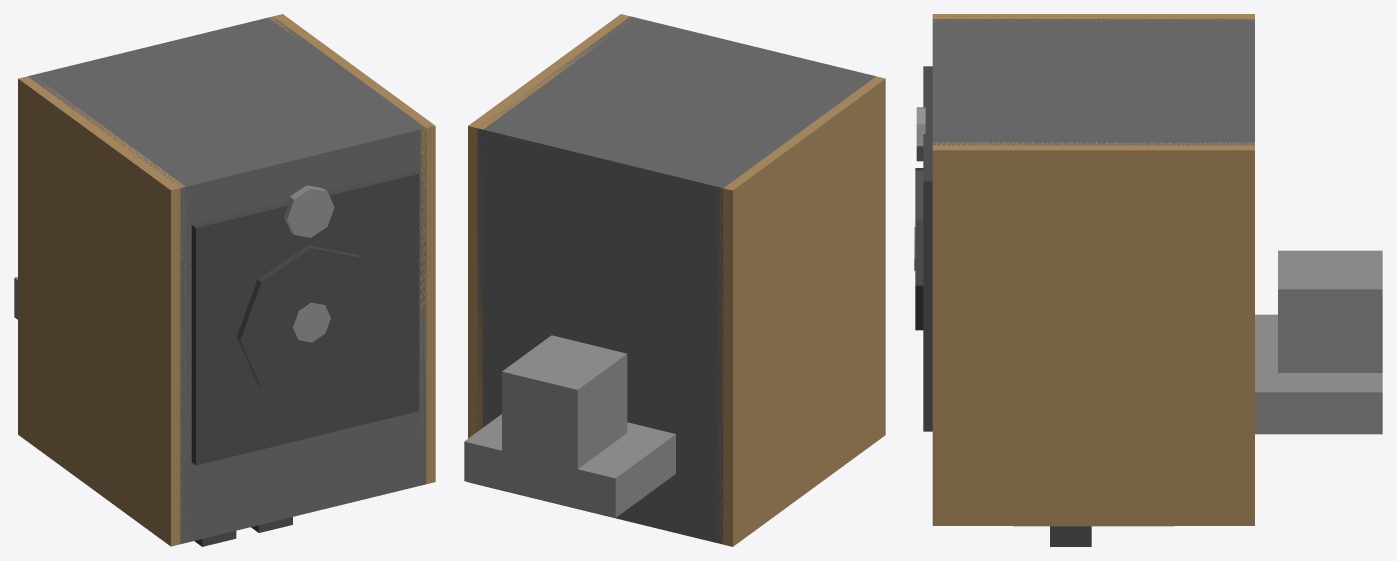
The model's file is parlante.fbx.
The picture shows the model from 3 angles, left to right: view 1: azimuth 30°, elevation 25°; view 2: azimuth 150°, elevation 25°; view 3: azimuth 270°, elevation 25°; orthographic projection. The views are drawn at different scales.
Visible parts, largest first — view 1: Parlante_Edifier; view 2: Parlante_Edifier; view 3: Parlante_Edifier.
Boxes of the visible parts, x1,y1,x2,y2 form: Parlante_Edifier: (14,14,435,546); Parlante_Edifier: (464,14,885,546); Parlante_Edifier: (914,14,1382,546).
Bounding box in the file's own units: 0.28 × 0.423 × 0.4069.
